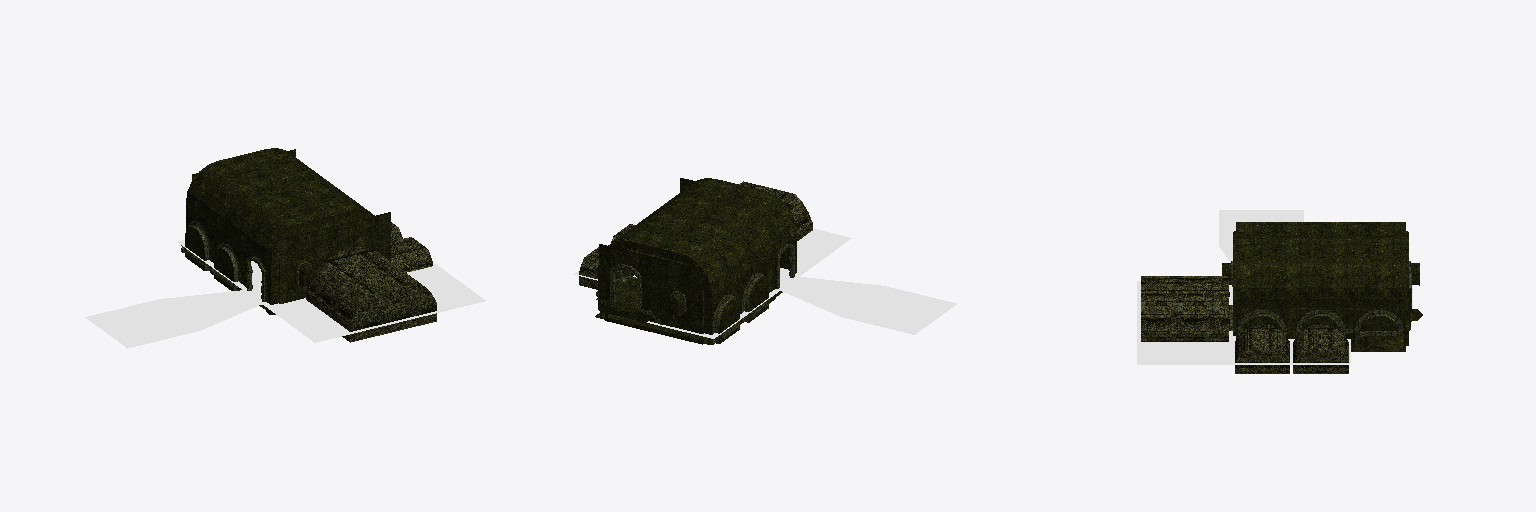
3 views of the same model, side by side, from view 1: azimuth 30°, elevation 25°; view 2: azimuth 150°, elevation 25°; view 3: azimuth 270°, elevation 25° (orthographic).
Visible parts, largest first — view 1: mesh9, mesh2, mesh3, mesh5, mesh4; view 2: mesh9, mesh2, mesh5, mesh4, mesh3, mesh7; view 3: mesh9, mesh3, mesh2, mesh5, mesh4.
Boxes of the visible parts, <box> form: mesh9: <box>185,148,390,314</box>; mesh2: <box>85,240,485,348</box>; mesh3: <box>306,222,436,342</box>; mesh5: <box>181,221,311,301</box>; mesh4: <box>259,210,374,314</box>; mesh9: <box>599,178,796,344</box>; mesh2: <box>574,229,956,338</box>; mesh5: <box>596,244,794,344</box>; mesh4: <box>595,240,789,344</box>; mesh3: <box>579,181,812,289</box>; mesh7: <box>600,243,789,344</box>; mesh9: <box>1222,222,1419,349</box>; mesh3: <box>1141,276,1348,373</box>; mesh2: <box>1137,210,1412,364</box>; mesh5: <box>1229,261,1411,336</box>; mesh4: <box>1233,231,1410,351</box>.
Size of the model in its own units: 19.89 by 5.12 by 15.53.
Materials: 11 (7 with a texture image).